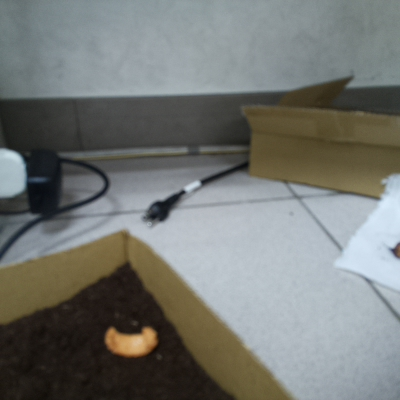eggs: (98, 316, 160, 359)
